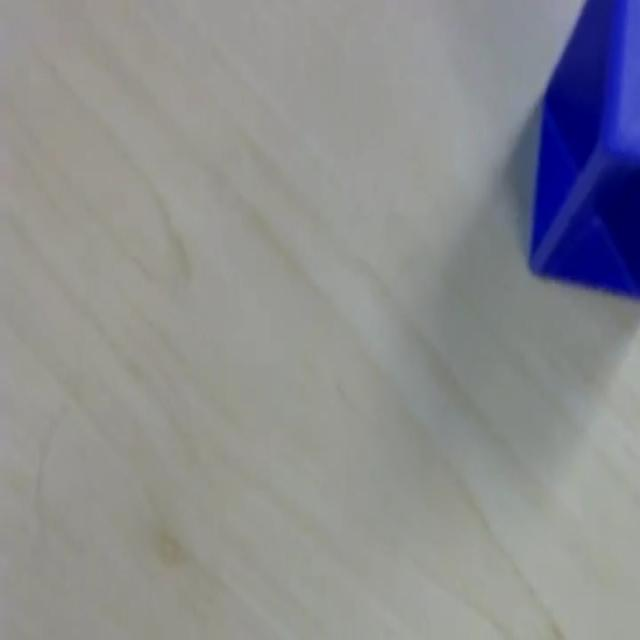blue_block: (526, 0, 638, 297)
